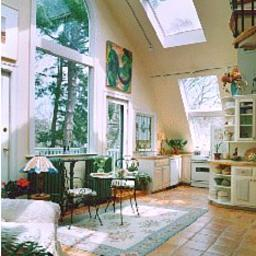Puerta: (106, 93, 131, 168)
Ventana: (33, 43, 98, 154)
